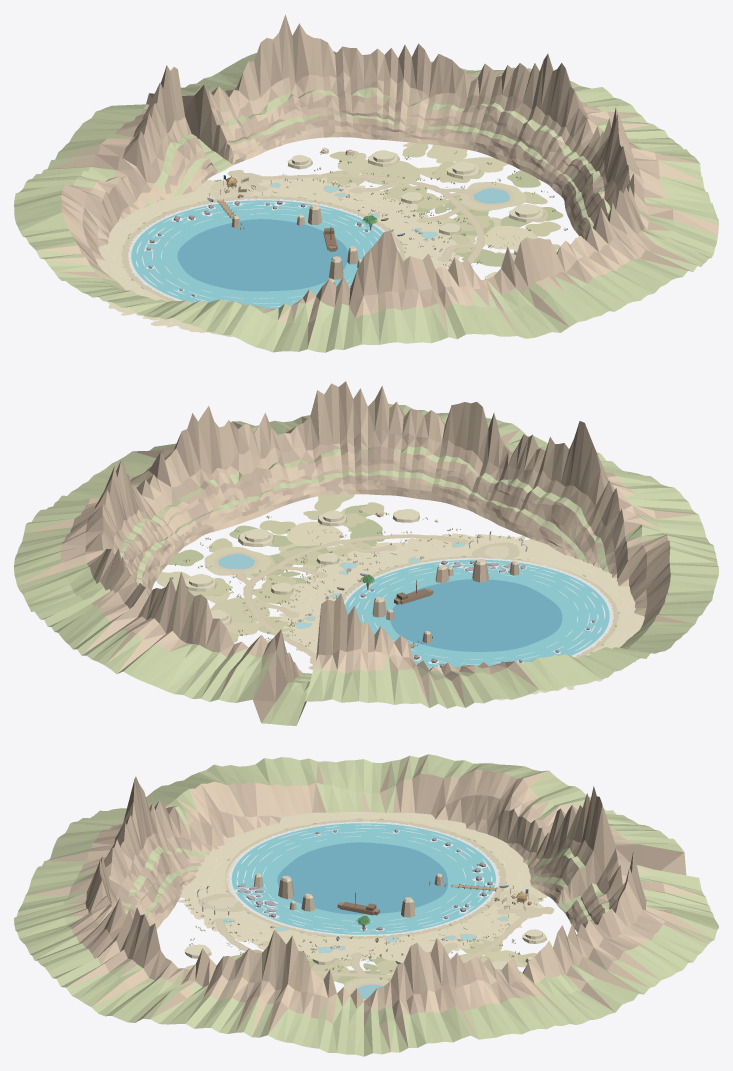
Rendered from map_field_crab_beach.glb.
3 renders of one model, top to bottom at view 1: azimuth 30°, elevation 25°; view 2: azimuth 150°, elevation 25°; view 3: azimuth 270°, elevation 25°, orthographic.
Visible parts, largest first — view 1: Z_field_crab_beach_penhascos, Z_field_crab_beach_agua_mar, Z_field_crab_beach_agua_funda_mar, Z_field_crab_beach_areia_mar, Z_field_crab_beach_det_chao_-2_1, Z_field_crab_beach_det_chao_-1_-2, Z_field_crab_beach_estrada_dunas, Z_field_crab_beach_det_chao_-2_-1, Z_field_crab_beach_det_chao_-1_-1, Z_field_crab_beach_det_chao_-2_-3, Z_field_crab_beach_det_chao_0_-2, Z_field_crab_beach_chao_coqueiral (+7 smaller); view 2: Z_field_crab_beach_penhascos, Z_field_crab_beach_agua_mar, Z_field_crab_beach_agua_funda_mar, Z_field_crab_beach_areia_mar, Z_field_crab_beach_det_chao_-1_-2, Z_field_crab_beach_estrada_dunas, Z_field_crab_beach_det_chao_1_-1, Z_field_crab_beach_det_chao_-2_1, Z_field_crab_beach_det_chao_1_0, Z_field_crab_beach_det_chao_-2_-1, Z_field_crab_beach_det_chao_-1_-1, Z_field_crab_beach_chao_areal (+7 smaller); view 3: Z_field_crab_beach_penhascos, Z_field_crab_beach_agua_mar, Z_field_crab_beach_areia_mar, Z_field_crab_beach_agua_funda_mar, Z_field_crab_beach_det_chao_-2_1, Z_field_crab_beach_espuma_mar, Z_field_crab_beach_det_chao_1_0, Z_field_crab_beach_det_chao_-2_-1, Z_field_crab_beach_estrada_dunas, Z_field_crab_beach_det_chao_-1_-2, Z_field_crab_beach_det_chao_0_-2, Z_field_crab_beach_chao_rancho (+1 smaller).
Boxes of the visible parts, bbox=[...] form: Z_field_crab_beach_penhascos: bbox=[14, 14, 718, 352]; Z_field_crab_beach_agua_mar: bbox=[131, 200, 383, 308]; Z_field_crab_beach_agua_funda_mar: bbox=[177, 219, 347, 291]; Z_field_crab_beach_areia_mar: bbox=[97, 180, 443, 325]; Z_field_crab_beach_det_chao_-2_1: bbox=[121, 191, 404, 301]; Z_field_crab_beach_det_chao_-1_-2: bbox=[260, 171, 491, 264]; Z_field_crab_beach_estrada_dunas: bbox=[249, 174, 483, 263]; Z_field_crab_beach_det_chao_-2_-1: bbox=[301, 153, 402, 194]; Z_field_crab_beach_det_chao_-1_-1: bbox=[337, 184, 432, 227]; Z_field_crab_beach_det_chao_-2_-3: bbox=[426, 144, 508, 172]; Z_field_crab_beach_det_chao_0_-2: bbox=[427, 206, 531, 235]; Z_field_crab_beach_chao_coqueiral: bbox=[360, 160, 420, 184]; Z_field_crab_beach_penhascos: bbox=[14, 381, 718, 725]; Z_field_crab_beach_agua_mar: bbox=[345, 559, 609, 668]; Z_field_crab_beach_agua_funda_mar: bbox=[390, 579, 562, 651]; Z_field_crab_beach_areia_mar: bbox=[292, 539, 644, 655]; Z_field_crab_beach_det_chao_-1_-2: bbox=[208, 534, 464, 657]; Z_field_crab_beach_estrada_dunas: bbox=[244, 535, 464, 658]; Z_field_crab_beach_det_chao_1_-1: bbox=[341, 519, 441, 556]; Z_field_crab_beach_det_chao_-2_1: bbox=[342, 556, 619, 665]; Z_field_crab_beach_det_chao_1_0: bbox=[415, 533, 519, 572]; Z_field_crab_beach_det_chao_-2_-1: bbox=[227, 601, 302, 641]; Z_field_crab_beach_det_chao_-1_-1: bbox=[252, 575, 357, 615]; Z_field_crab_beach_chao_areal: bbox=[287, 522, 343, 545]; Z_field_crab_beach_penhascos: bbox=[14, 754, 718, 1056]; Z_field_crab_beach_agua_mar: bbox=[231, 823, 495, 934]; Z_field_crab_beach_areia_mar: bbox=[182, 811, 540, 954]; Z_field_crab_beach_agua_funda_mar: bbox=[277, 842, 447, 914]; Z_field_crab_beach_det_chao_-2_1: bbox=[225, 819, 514, 938]; Z_field_crab_beach_espuma_mar: bbox=[229, 822, 499, 935]; Z_field_crab_beach_det_chao_1_0: bbox=[198, 893, 287, 934]; Z_field_crab_beach_det_chao_-2_-1: bbox=[444, 931, 526, 967]; Z_field_crab_beach_estrada_dunas: bbox=[216, 912, 532, 977]; Z_field_crab_beach_det_chao_-1_-2: bbox=[215, 917, 528, 985]; Z_field_crab_beach_det_chao_0_-2: bbox=[309, 958, 369, 983]; Z_field_crab_beach_chao_rancho: bbox=[494, 890, 537, 909].
Bounding box in the file's own units: 327 × 55.78 × 331.
